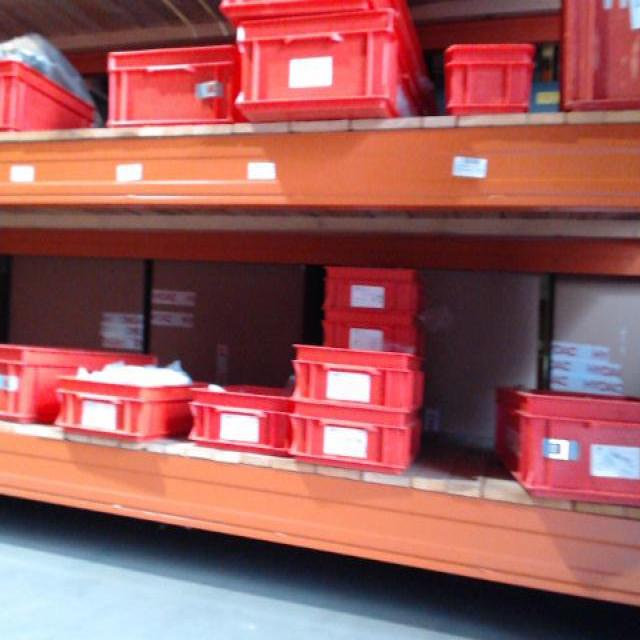small_load_carrier: (229, 7, 424, 119), (1, 337, 165, 424), (508, 392, 640, 495), (48, 370, 213, 452), (104, 39, 241, 135), (286, 337, 427, 414), (555, 1, 638, 119), (285, 410, 429, 474), (1, 51, 98, 143), (184, 385, 284, 456), (441, 43, 532, 119), (316, 261, 428, 318), (323, 323, 426, 352)
